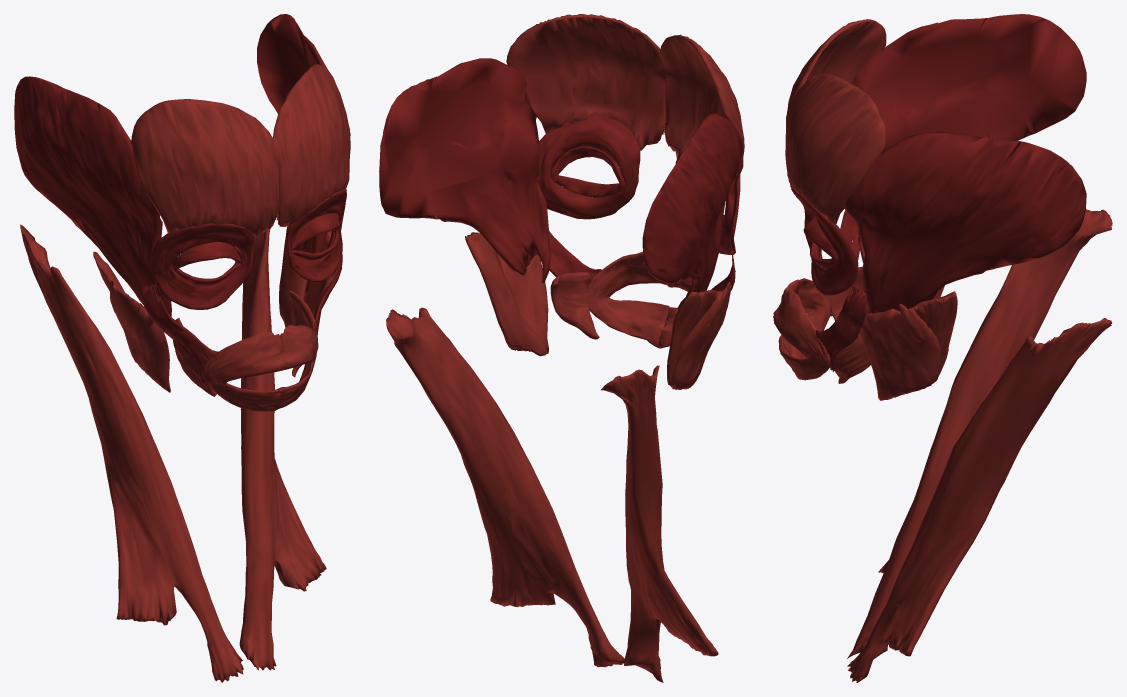
File: head-muscles.glb
3 renders of one model, left to right at view 1: azimuth 30°, elevation 25°; view 2: azimuth 150°, elevation 25°; view 3: azimuth 270°, elevation 25°, orthographic. The views are drawn at different scales.
Parts seen in each view (by area): view 1: frontalis, sternocleidomastoid_right, temporalis, sternocleidomastoid_left, orbicularis_oculi, orbicularis_oris, masseter, zygomaticus_major, buccinator; view 2: temporalis, sternocleidomastoid_left, frontalis, sternocleidomastoid_right, masseter, orbicularis_oculi, orbicularis_oris, buccinator, zygomaticus_major; view 3: temporalis, sternocleidomastoid_left, frontalis, sternocleidomastoid_right, masseter, orbicularis_oris, orbicularis_oculi, zygomaticus_major, buccinator.
Part boxes in pixels (x1,y1,x2,y2): frontalis: [131, 64, 350, 236]; sternocleidomastoid_right: [20, 224, 243, 682]; temporalis: [14, 14, 327, 316]; sternocleidomastoid_left: [239, 229, 326, 670]; orbicularis_oculi: [150, 189, 346, 309]; orbicularis_oris: [202, 325, 318, 411]; masseter: [93, 230, 337, 392]; zygomaticus_major: [141, 254, 342, 384]; buccinator: [173, 290, 314, 396]; temporalis: [379, 58, 740, 309]; sternocleidomastoid_left: [386, 307, 624, 667]; frontalis: [506, 14, 744, 180]; sternocleidomastoid_right: [601, 365, 718, 682]; masseter: [465, 232, 731, 389]; orbicularis_oculi: [536, 113, 740, 254]; orbicularis_oris: [587, 251, 693, 348]; buccinator: [550, 272, 677, 339]; zygomaticus_major: [540, 231, 735, 291]; temporalis: [844, 14, 1086, 314]; sternocleidomastoid_left: [847, 318, 1111, 682]; frontalis: [785, 19, 886, 224]; sternocleidomastoid_right: [847, 209, 1112, 658]; masseter: [856, 223, 957, 400]; orbicularis_oris: [773, 278, 831, 380]; orbicularis_oculi: [791, 188, 858, 295]; zygomaticus_major: [814, 210, 869, 371]; buccinator: [829, 266, 870, 383].
Bounding box in the file's own units: 0.1485 × 0.3056 × 0.1527.
